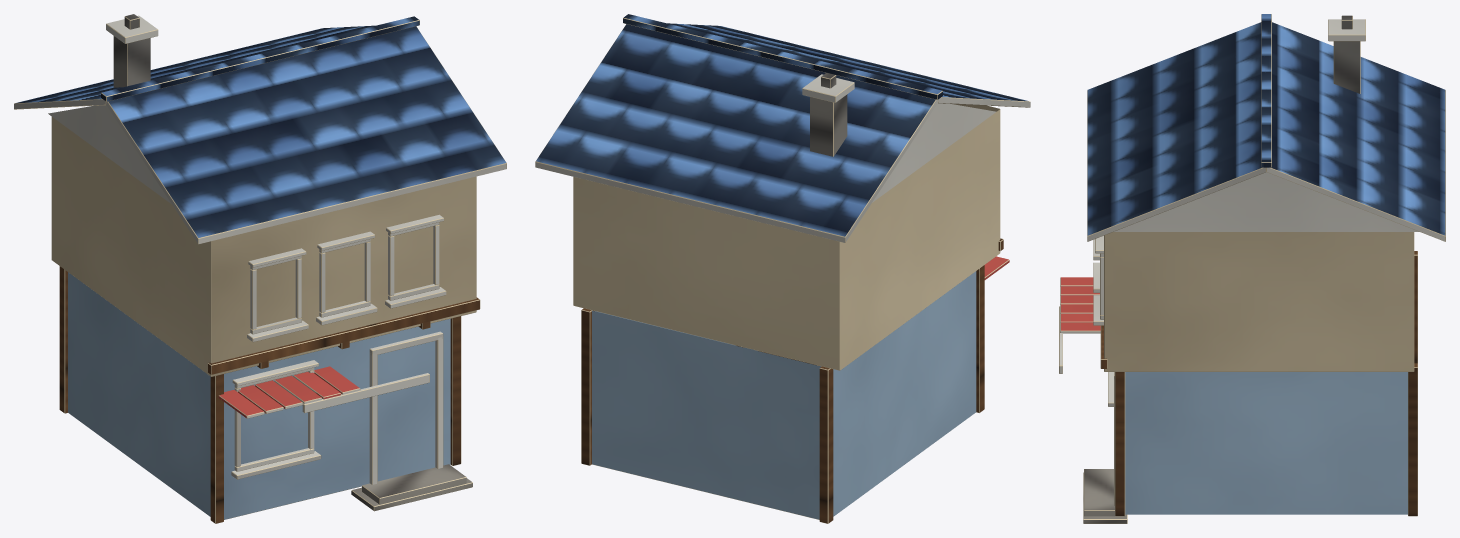
The model's file is Env_House_Townhouse_B.fbx.
The picture shows the model from 3 angles, left to right: view 1: azimuth 30°, elevation 25°; view 2: azimuth 150°, elevation 25°; view 3: azimuth 270°, elevation 25°; orthographic projection. The views are drawn at different scales.
Parts seen in each view (by area): view 1: Env_House_Townhouse_B; view 2: Env_House_Townhouse_B; view 3: Env_House_Townhouse_B.
Boxes of the visible parts, box(x1,y1,x2,y2) form: Env_House_Townhouse_B: box(14, 14, 506, 523); Env_House_Townhouse_B: box(535, 14, 1030, 523); Env_House_Townhouse_B: box(1059, 14, 1445, 523).
Bounding box in the file's own units: 524 × 576 × 672.
